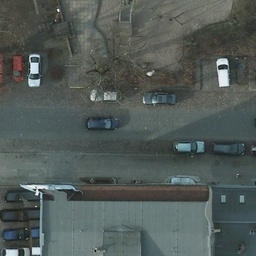car: (85, 114, 120, 131), (26, 55, 43, 89), (215, 57, 232, 90), (89, 87, 122, 103), (143, 91, 177, 106), (175, 138, 205, 154), (235, 57, 249, 90), (10, 54, 24, 85), (1, 207, 29, 222), (1, 226, 29, 241), (213, 142, 244, 155), (2, 246, 29, 256)
van: (1, 53, 6, 93)
